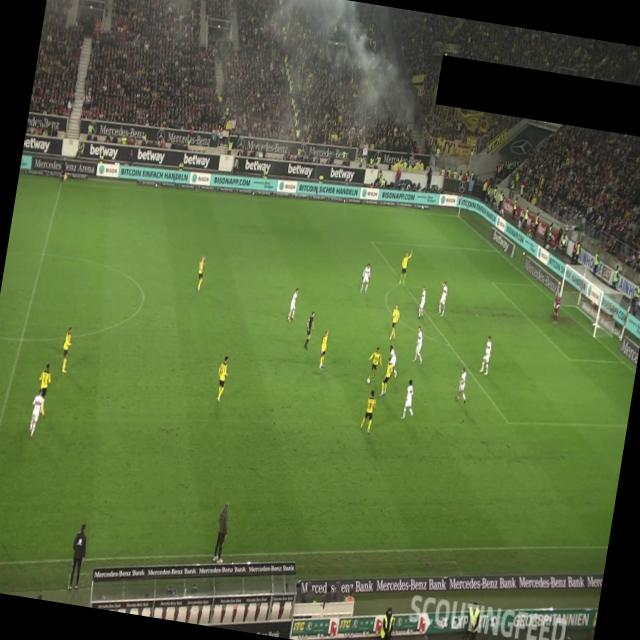ball: (366, 376, 372, 386)
goalkeeper: (548, 292, 564, 328)
player: (33, 362, 54, 418), (27, 388, 49, 440), (214, 354, 232, 404), (359, 388, 378, 435), (364, 345, 386, 385), (400, 378, 420, 422), (59, 326, 75, 374), (454, 365, 472, 405), (412, 324, 428, 366), (380, 357, 396, 397), (479, 334, 494, 376), (398, 248, 413, 286), (384, 345, 400, 378), (388, 304, 402, 341), (436, 280, 450, 317), (194, 256, 207, 293), (318, 330, 330, 370), (287, 287, 300, 323), (360, 262, 372, 294), (417, 286, 428, 318)
referee: (303, 311, 317, 351), (58, 156, 72, 184)
